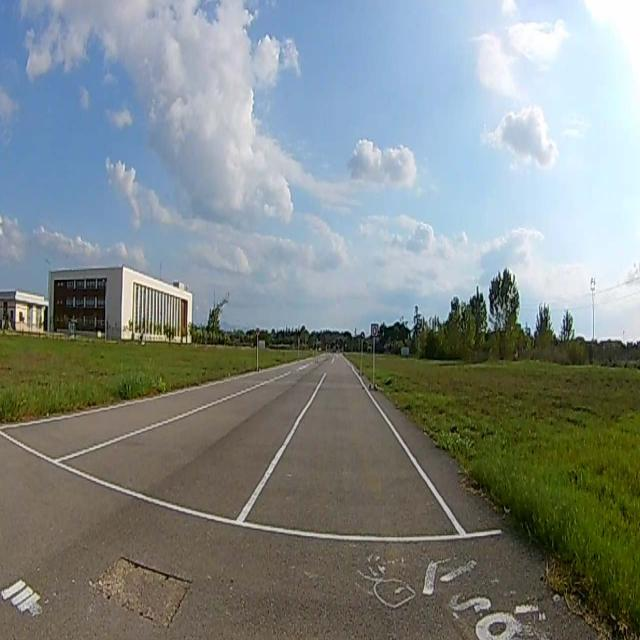durak: (372, 323, 378, 337)
